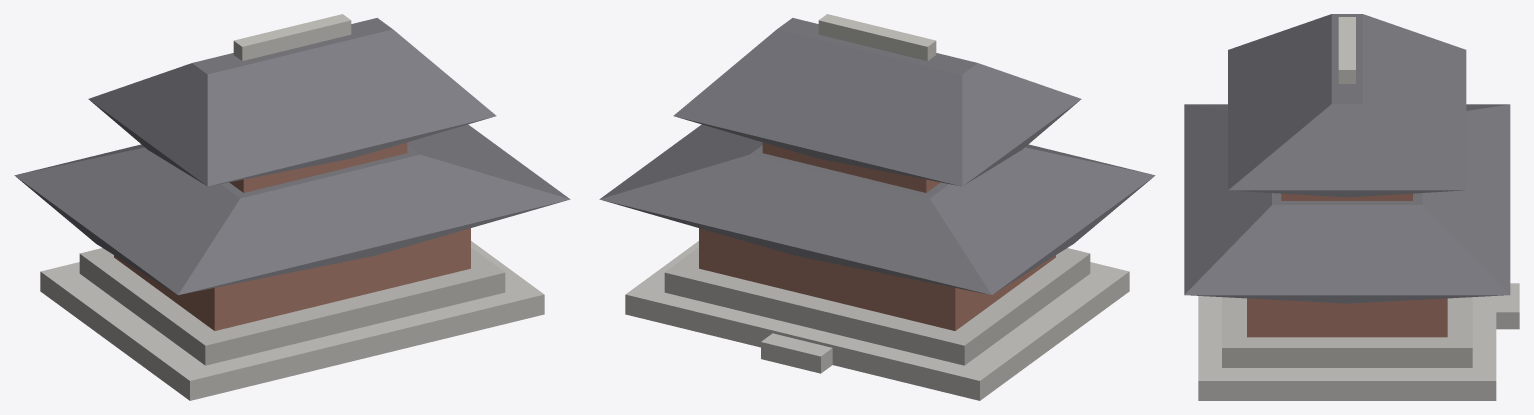
The picture shows the model from 3 angles, left to right: view 1: azimuth 30°, elevation 25°; view 2: azimuth 150°, elevation 25°; view 3: azimuth 270°, elevation 25°; orthographic projection.
Visible parts, largest first — view 1: part3, part5, part0, part1, part2, part6, part4; view 2: part3, part5, part0, part1, part2, part6, part7, part4; view 3: part3, part5, part0, part1, part2, part6, part7, part4.
Boxes of the visible parts, x1,y1,x2,y2 form: part3: (14,124,570,295); part5: (88,18,496,186); part0: (40,241,544,400); part1: (79,247,505,365); part2: (114,228,470,330); part6: (233,14,351,60); part4: (229,142,407,192); part3: (599,124,1155,295); part5: (673,18,1081,186); part0: (625,241,1129,400); part1: (664,247,1090,365); part2: (699,228,1055,330); part6: (818,14,936,60); part7: (761,333,832,373); part4: (762,142,940,192); part3: (1184,104,1510,303); part5: (1228,14,1466,197); part0: (1198,296,1496,400); part1: (1222,297,1472,367); part2: (1247,298,1447,337); part6: (1338,17,1355,83); part7: (1496,283,1519,329); part4: (1281,193,1412,200).
Bounding box in the file's own units: 6.48 × 4.3 × 4.81.
